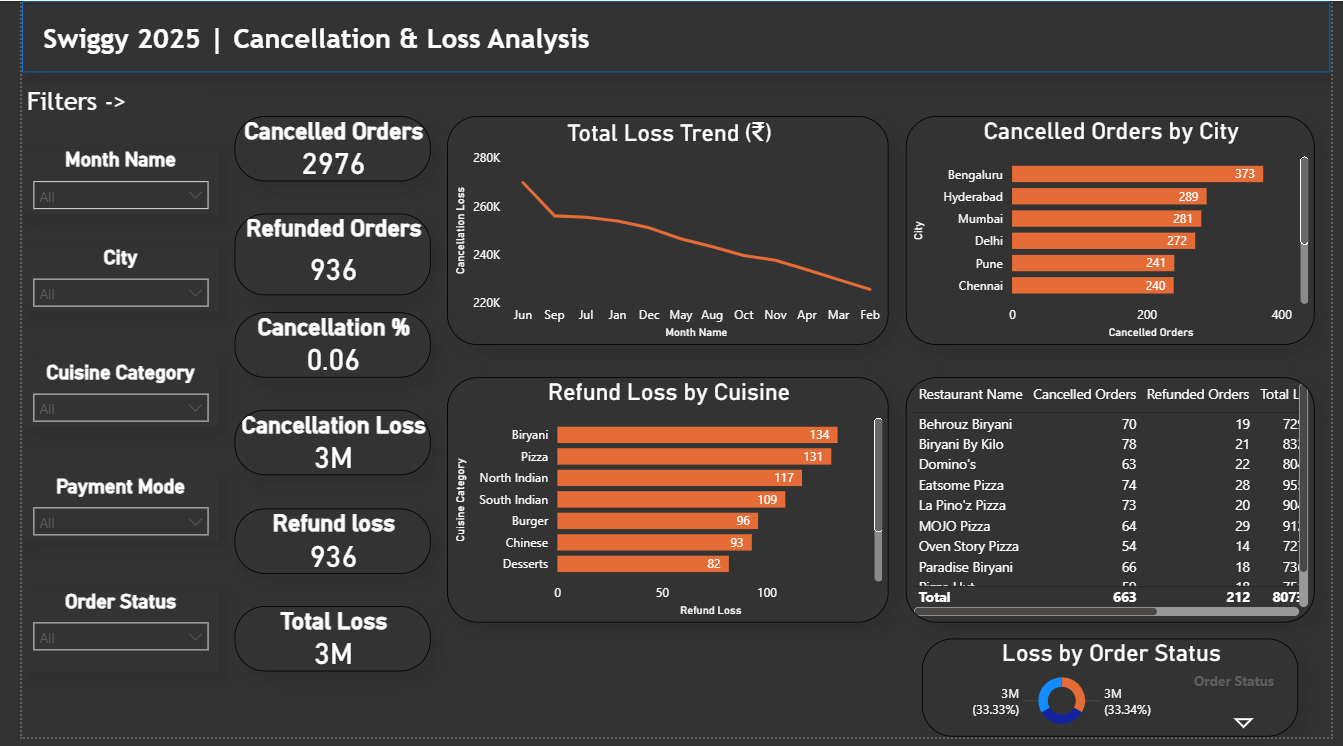

Layout of this report page (visuals, bound fields, positions):
{"tool":"powerbi","page":{"name":"Cancellation & Loss Analysis","canvas":[1280,720],"ordinal":2},"visuals":[{"type":"card","title":"Cancelled Orders","fields":{"Values":["Sheet1.Cancelled Orders"]},"box":[208,112,192,64],"z":0},{"type":"card","title":"Refunded Orders","fields":{"Values":["Sheet1.Refunded Orders"]},"box":[208,208,192,80],"z":1000},{"type":"card","title":"Cancellation Loss","fields":{"Values":["Sheet1.Cancellation Loss"]},"box":[208,400,192,64],"z":2000},{"type":"card","title":"Refund loss","fields":{"Values":["Sheet1.Refund Loss"]},"box":[208,496,192,64],"z":3000},{"type":"card","title":"Total Loss","fields":{"Values":["Sheet1.Total Loss"]},"box":[208,592,192,64],"z":4000},{"type":"lineChart","title":"Total Loss Trend (₹)","fields":{"Category":["Sheet1.Month Name"],"Y":["Sheet1.Cancellation Loss"]},"box":[416,112,432,224],"z":6000},{"type":"barChart","fields":{"Y":["Sheet1.Cancelled Orders"],"Category":["Sheet1.City"]},"box":[864,112,400,224],"z":7000},{"type":"barChart","title":"Refund Loss by Cuisine","fields":{"Y":["Sheet1.Refund Loss"],"Category":["Sheet1.Cuisine Category"]},"box":[416,368,432,240],"z":8000},{"type":"tableEx","fields":{"Values":["Sheet1.Restaurant Name","Sheet1.Cancelled Orders","Sheet1.Refunded Orders","Sheet1.Total Loss","Sheet1.Cancellation Loss","Sheet1.Refund Loss"]},"box":[864,368,400,240],"z":9000},{"type":"slicer","title":"City","fields":{"Values":["Sheet1.City"]},"box":[0,240,192,64],"z":10000},{"type":"slicer","title":"Month Name","fields":{"Values":["Sheet1.Month Name"]},"box":[0,144,192,64],"z":11000},{"type":"slicer","title":"Payment Mode","fields":{"Values":["Sheet1.Payment Mode"]},"box":[0,464,192,64],"z":12000},{"type":"shape","box":[0,0,1280,70],"z":12001},{"type":"textbox","box":[16,16,656,48],"z":12002},{"type":"slicer","title":"Cuisine Category","fields":{"Values":["Sheet1.Cuisine Category"]},"box":[0,352,192,64],"z":12003},{"type":"slicer","title":"Order Status","fields":{"Values":["Sheet1.Order Status"]},"box":[0,576,192,80],"z":12004},{"type":"textbox","box":[0,80,176,48],"z":12006},{"type":"card","title":"Cancellation %","fields":{"Values":["Sheet1.Cancellation %"]},"box":[208,304,192,64],"z":12007},{"type":"donutChart","title":"Loss by Order Status","fields":{"Category":["Sheet1.Order Status"],"Y":["Sheet1.Total Loss"]},"box":[880,624,368,96],"z":12008}]}

Visuals, with their boxes in screenshot pixels (x1, y1, x2, y2), scaled from the page's 1280x720 canvas onto the 1343x746 screenshot:
"Cancelled Orders" card: rect(218, 116, 420, 182)
"Refunded Orders" card: rect(218, 216, 420, 298)
"Cancellation Loss" card: rect(218, 414, 420, 481)
"Refund loss" card: rect(218, 514, 420, 580)
"Total Loss" card: rect(218, 613, 420, 680)
"Total Loss Trend (₹)" lineChart: rect(436, 116, 890, 348)
barChart - Sheet1.Cancelled Orders x Sheet1.City: rect(907, 116, 1326, 348)
"Refund Loss by Cuisine" barChart: rect(436, 381, 890, 630)
tableEx - Sheet1.Restaurant Name x Sheet1.Cancelled Orders: rect(907, 381, 1326, 630)
"City" slicer: rect(0, 249, 201, 315)
"Month Name" slicer: rect(0, 149, 201, 216)
"Payment Mode" slicer: rect(0, 481, 201, 547)
shape: rect(0, 0, 1342, 73)
textbox: rect(17, 17, 705, 66)
"Cuisine Category" slicer: rect(0, 365, 201, 431)
"Order Status" slicer: rect(0, 597, 201, 680)
textbox: rect(0, 83, 185, 133)
"Cancellation %" card: rect(218, 315, 420, 381)
"Loss by Order Status" donutChart: rect(923, 647, 1309, 745)
